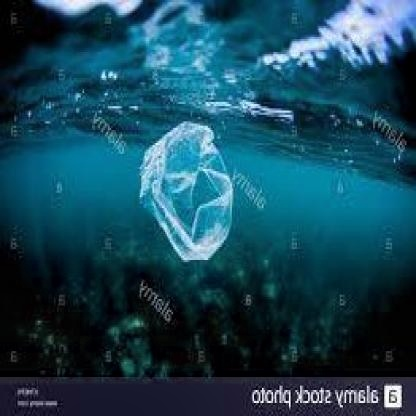pbag: (138, 122, 234, 262)
